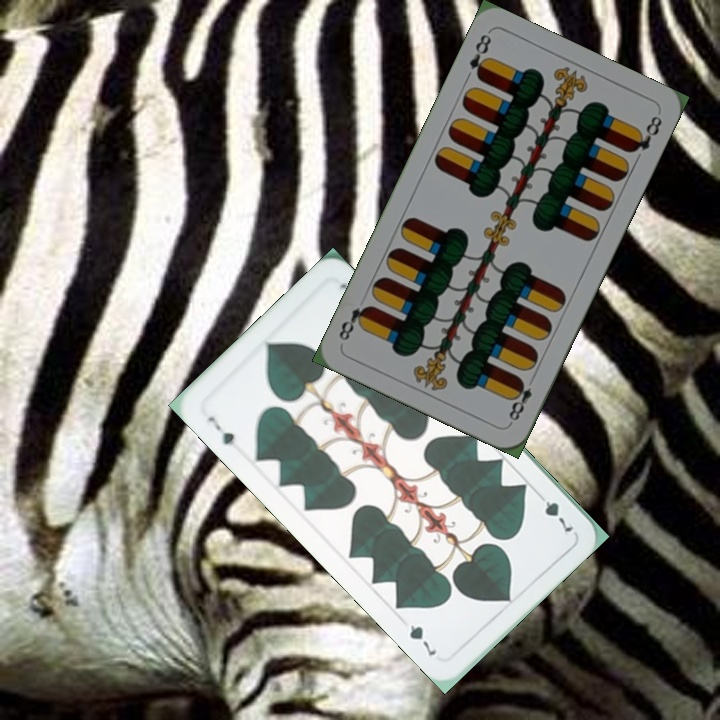E8: (504, 375, 535, 426), (465, 30, 494, 83)
G7: (532, 487, 576, 535), (203, 412, 238, 448)
